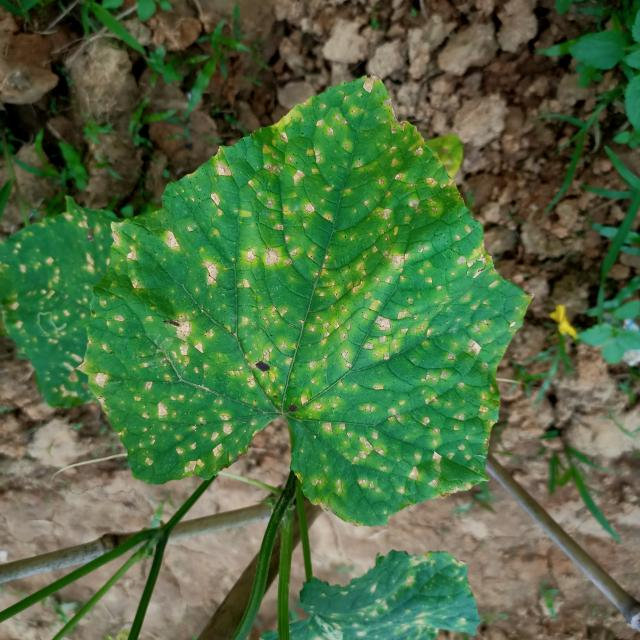disease_cucumber: (96, 103, 517, 510), (0, 221, 98, 401)
